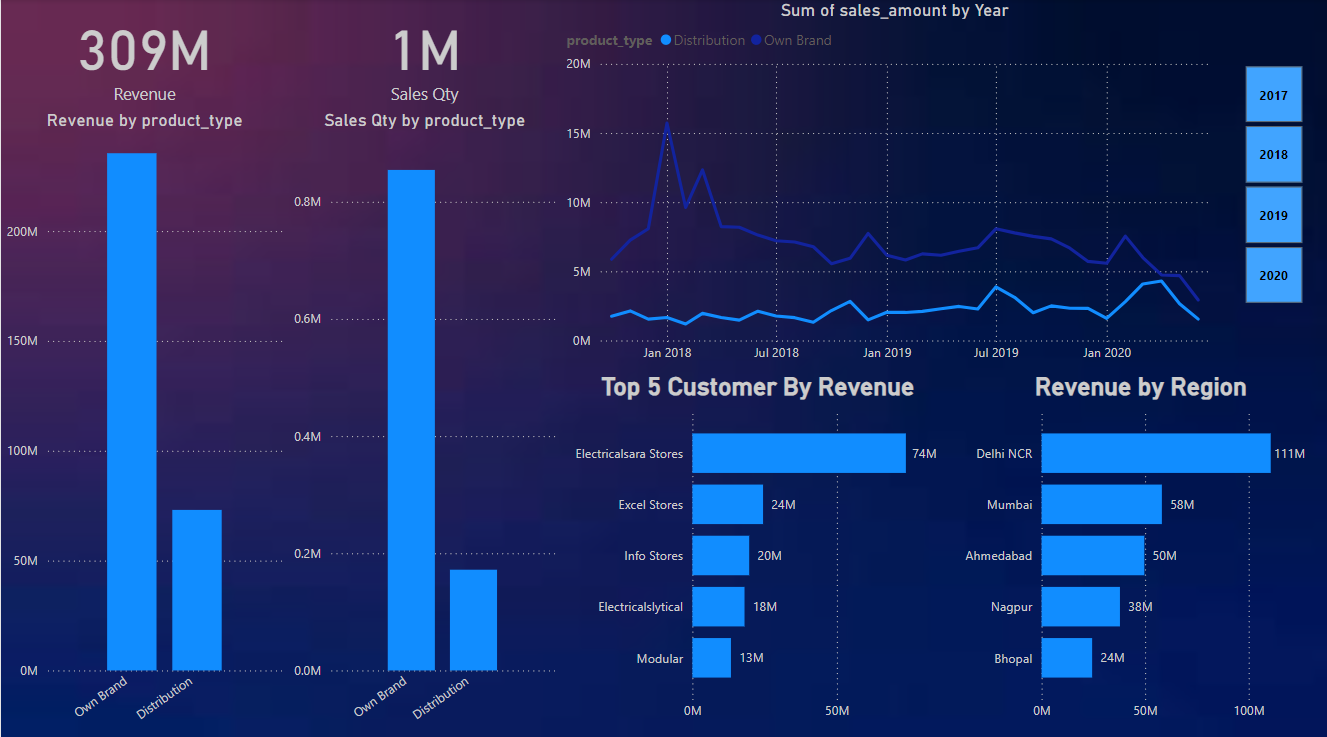

This screenshot's page, from the dashboard's own definition file:
{"tool":"powerbi","page":{"name":"Product","canvas":[1280,720],"ordinal":2},"visuals":[{"type":"card","fields":{"Values":["Base masures.Revenue"]},"box":[0,0,277.5,106.2],"z":0},{"type":"columnChart","fields":{"Y":["Base masures.Revenue"],"Category":["products.product_type"]},"box":[0,106.2,277.5,614.1],"z":1000},{"type":"card","fields":{"Values":["Base masures.Sales Qty"]},"box":[277.5,0,263,106.2],"z":2000},{"type":"columnChart","fields":{"Y":["Base masures.Sales Qty"],"Category":["products.product_type"]},"box":[277.5,106.2,263,614.1],"z":3000},{"type":"lineChart","title":"Sum of sales_amount by Year","fields":{"Y":["Sum(transactions.sales_amount)"],"Category":["date.cy_date.Variation.Date Hierarchy.Year","date.cy_date.Variation.Date Hierarchy.Quarter","date.cy_date.Variation.Date Hierarchy.Month","date.cy_date.Variation.Date Hierarchy.Day"],"Series":["products.product_type"]},"box":[540.5,0,644.2,359.5],"z":4000},{"type":"slicer","fields":{"Values":["date.year"]},"box":[1175.1,57.9,105,242.5],"z":5000},{"type":"clusteredBarChart","title":"Top 5 Customer By Revenue","fields":{"Y":["Base masures.Revenue"],"Category":["customers.custmer_name"]},"box":[540.5,359.5,380,360.7],"z":6000},{"type":"clusteredBarChart","title":"Revenue by Region","fields":{"Y":["Base masures.Revenue"],"Category":["markets.markets_name"]},"box":[920.5,359.5,359.5,360.7],"z":6001}]}

Visuals, with their boxes in screenshot pixels (x1, y1, x2, y2), scaled from the page's 1280x720 canvas onto the 1327x737 screenshot:
card - Base masures.Revenue: (0,0,288,109)
columnChart - Base masures.Revenue x products.product_type: (0,109,288,736)
card - Base masures.Sales Qty: (288,0,560,109)
columnChart - Base masures.Sales Qty x products.product_type: (288,109,560,736)
"Sum of sales_amount by Year" lineChart: (560,0,1228,368)
slicer - date.year: (1218,59,1326,307)
"Top 5 Customer By Revenue" clusteredBarChart: (560,368,954,736)
"Revenue by Region" clusteredBarChart: (954,368,1326,736)
